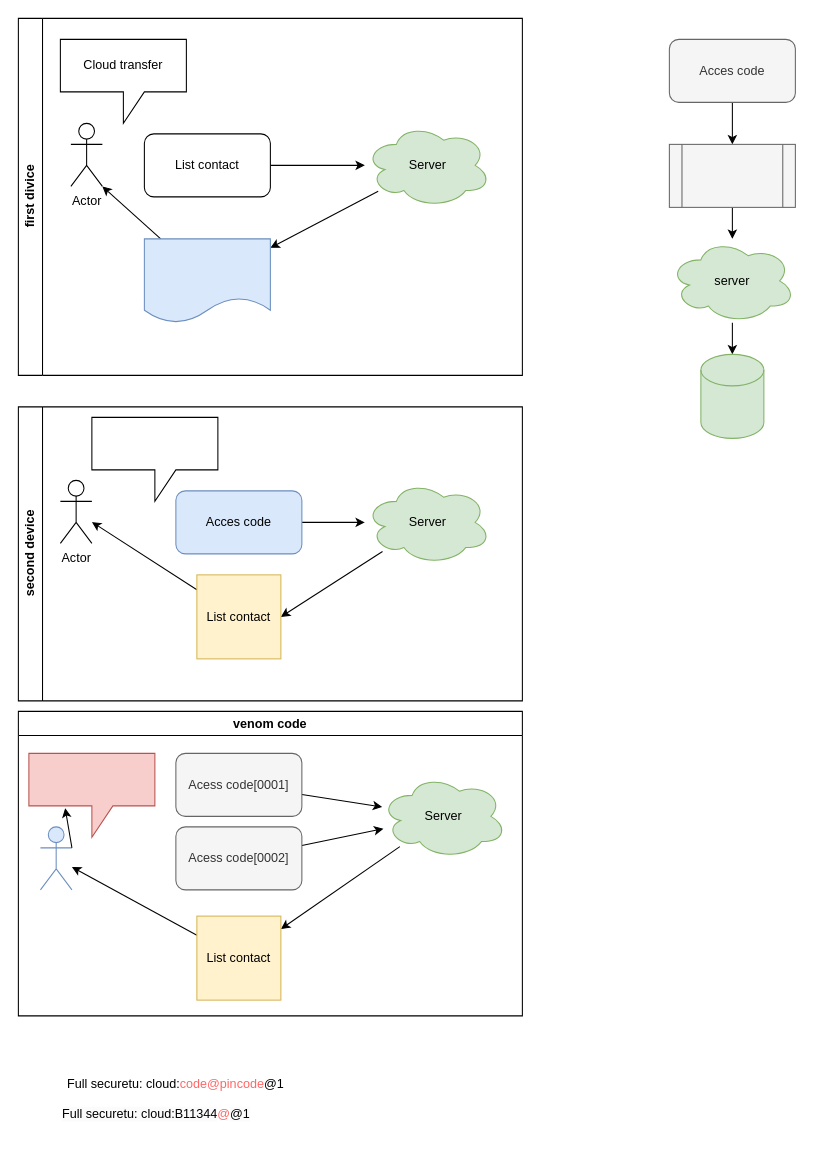
Some shapes in this 814 by 1150 pixel diagram are drawn without their labels. Here are the shapes that lost their labels. From the top down, the centre of each, then its label:
At point 731,175: "Encript".
At point 206,280: "Access code".
At point 732,395: "check in our db".
At point 154,458: "Acess code".
At point 91,794: "Get all contact on server".
At point 55,858: "labubu".
